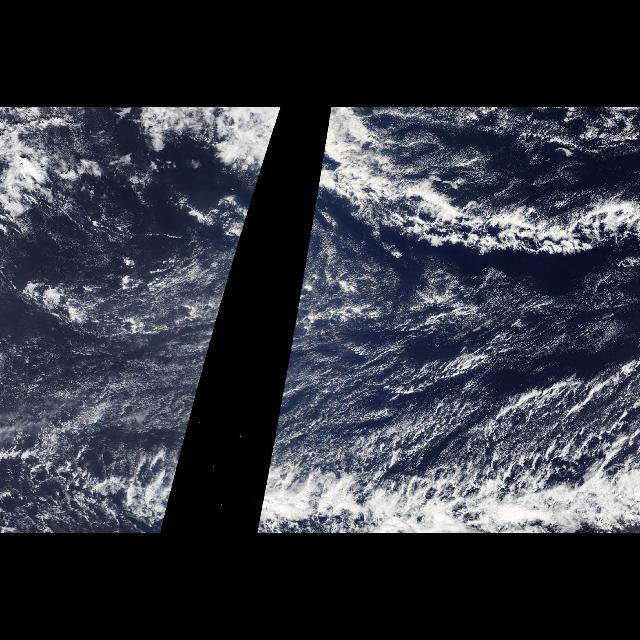Fish: (305, 172, 639, 258), (256, 461, 542, 533), (130, 461, 180, 533)
Sugar: (267, 249, 633, 463), (0, 258, 236, 464), (378, 108, 640, 182)
